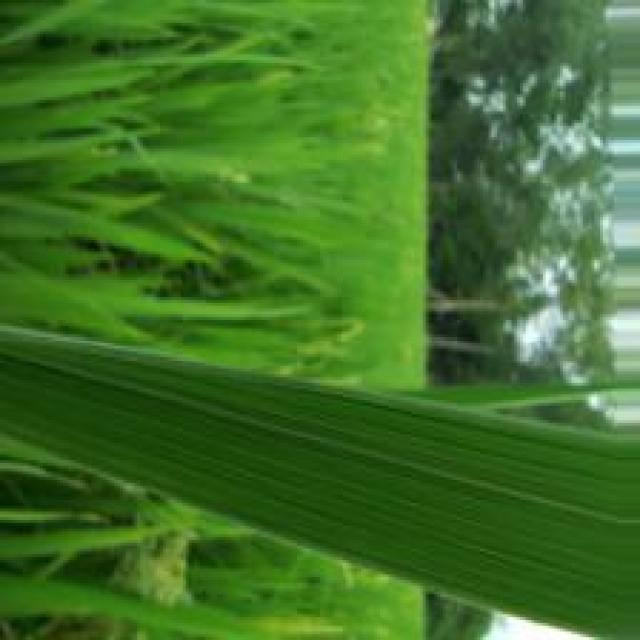HealthyLeaf: (0, 320, 640, 638)
